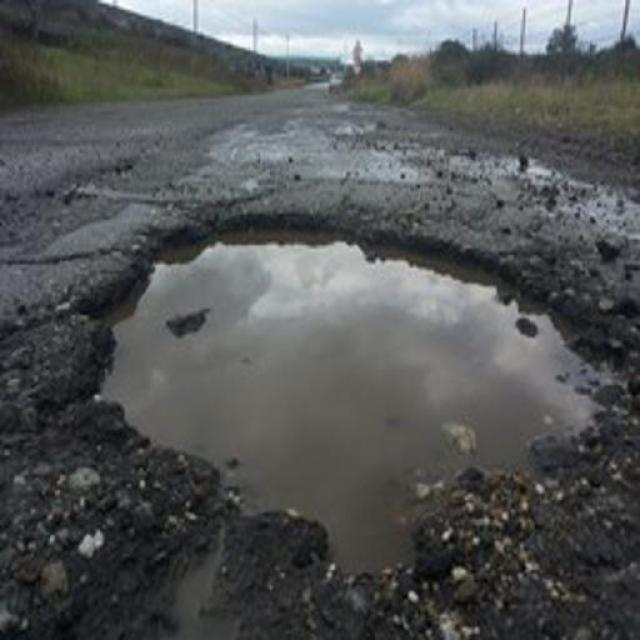puddle: (137, 221, 551, 532)
